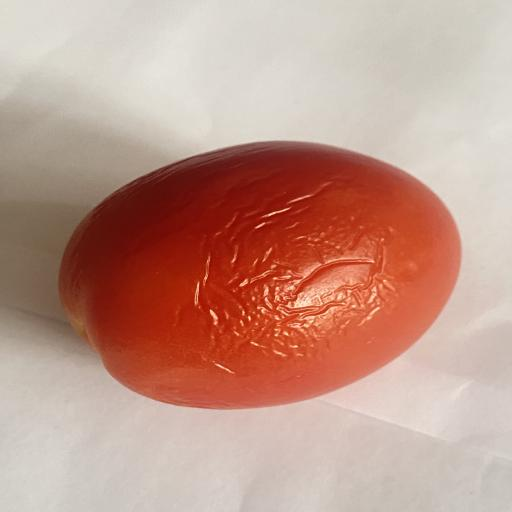spoiled: (59, 141, 461, 409)
